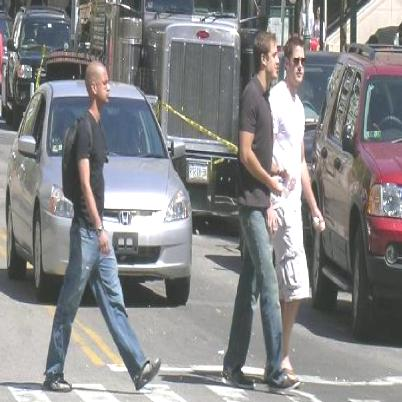ped: (47, 61, 163, 390), (224, 33, 295, 388), (270, 37, 328, 377)
